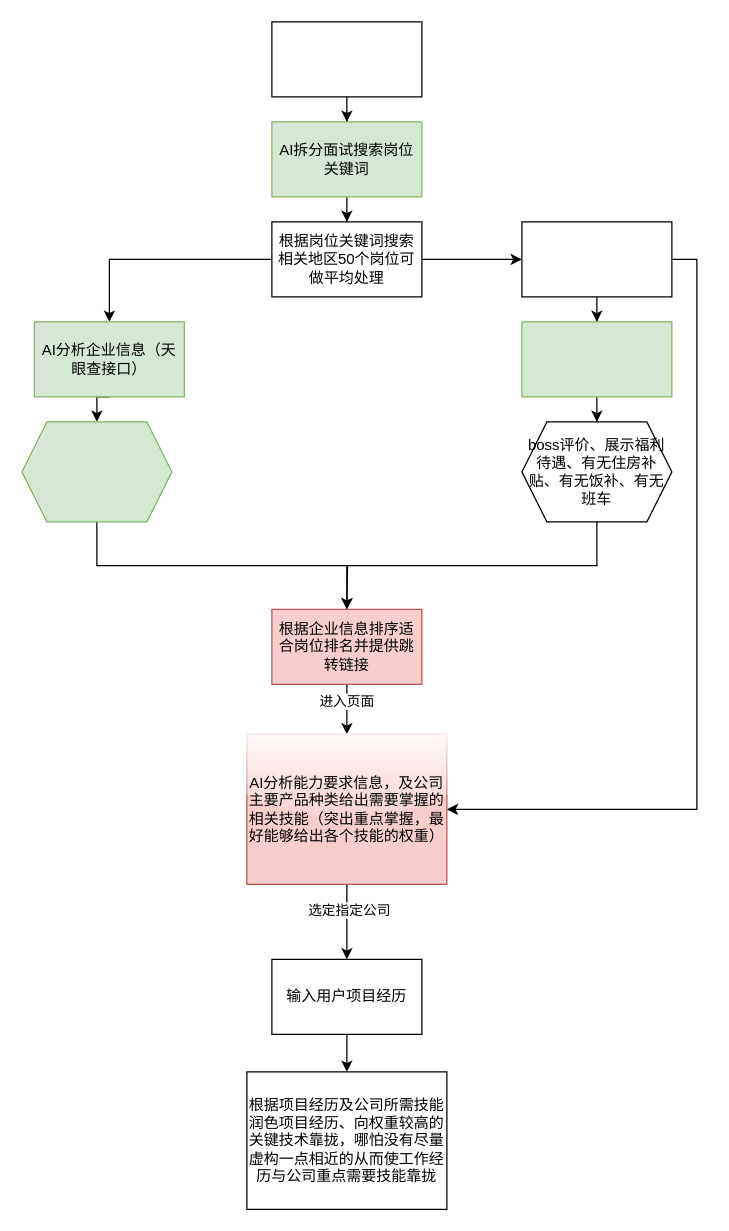
This 729x1231 diagram has some shape labels left out. The centre of each missing label's shape, as x and y in pixels:
"AI分析福利待遇" goes at (596,359).
"上市信息、股权分析、经营时间、公司人数、注册资本、风险信息" goes at (96,471).
"岗位+地区输入" goes at (346,59).
"爬取页面详细信息" goes at (596,259).
